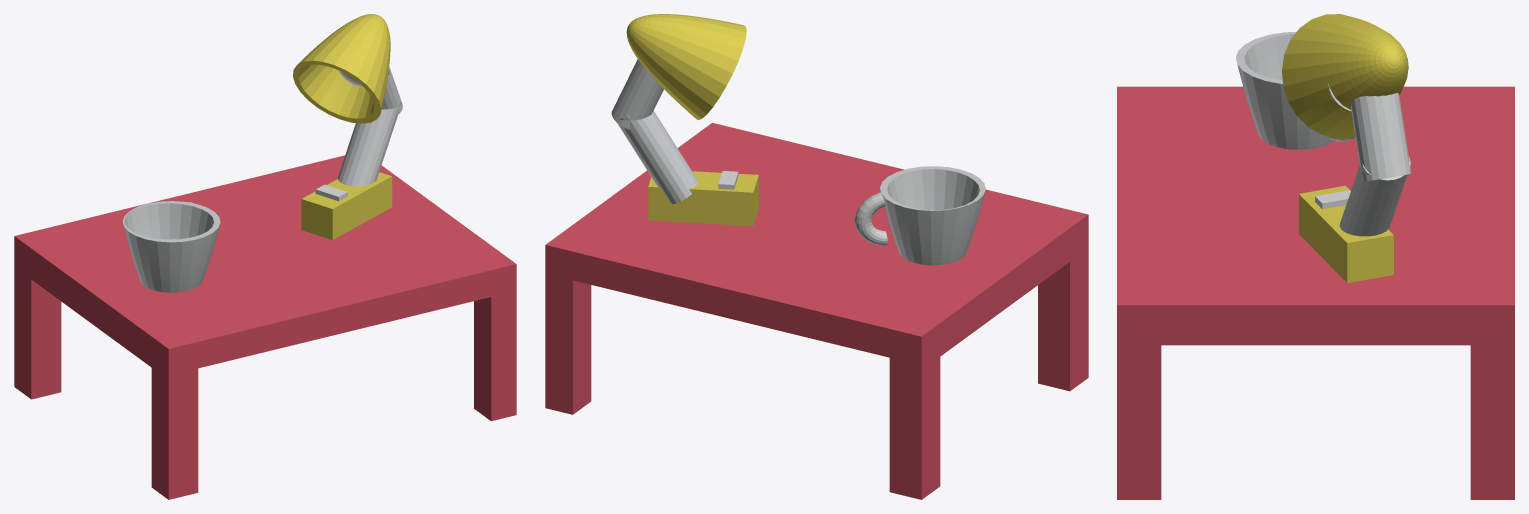
File: Table Model.glb
3 views of the same model, side by side, from view 1: azimuth 30°, elevation 25°; view 2: azimuth 150°, elevation 25°; view 3: azimuth 270°, elevation 25° (orthographic). The views are drawn at different scales.
Visible parts, largest first — view 1: Mesh_Mesh_head_geo.001_lambert2SG.001; view 2: Mesh_Mesh_head_geo.001_lambert2SG.001; view 3: Mesh_Mesh_head_geo.001_lambert2SG.001.
Part boxes in pixels (bbox=[...]): Mesh_Mesh_head_geo.001_lambert2SG.001: bbox=[14, 14, 516, 499]; Mesh_Mesh_head_geo.001_lambert2SG.001: bbox=[545, 14, 1088, 499]; Mesh_Mesh_head_geo.001_lambert2SG.001: bbox=[1117, 14, 1514, 499].
Size of the model in its own units: 82 by 75.43 by 63.
